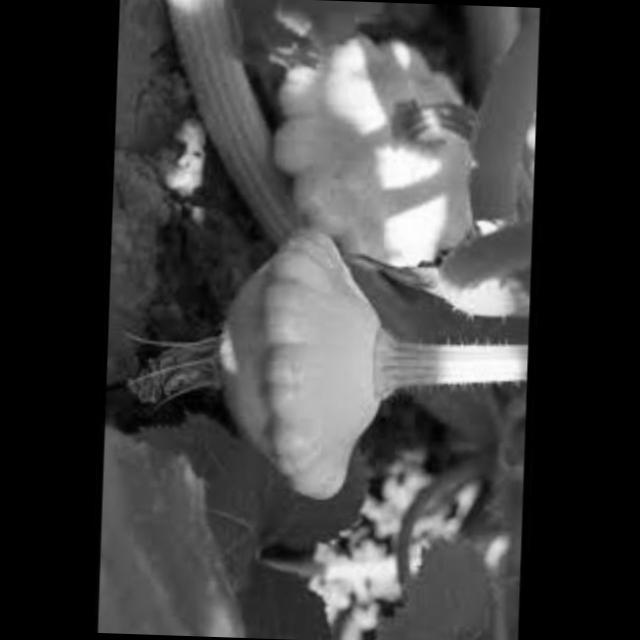squash: (209, 214, 409, 512), (277, 27, 498, 273)
